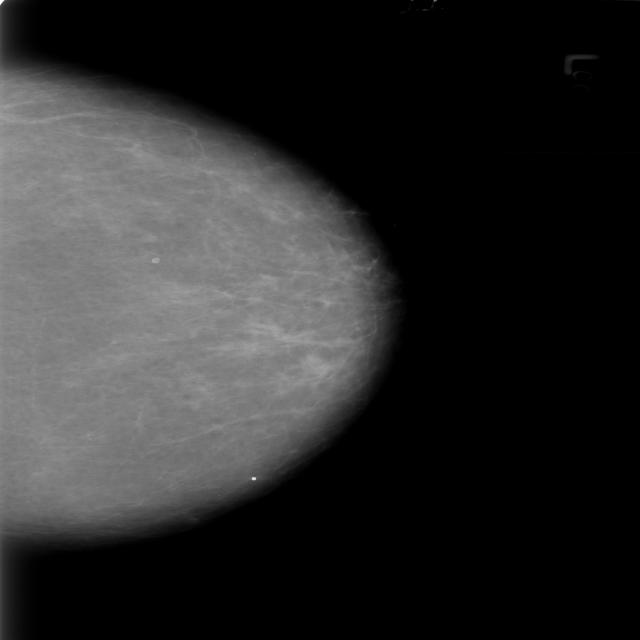normal: (0, 21, 404, 539)
